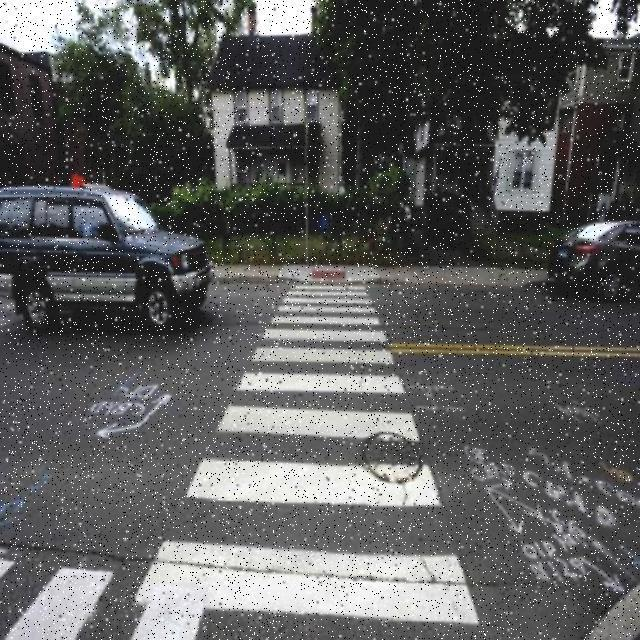Pedestrian crosswalk: (130, 270, 484, 639)
